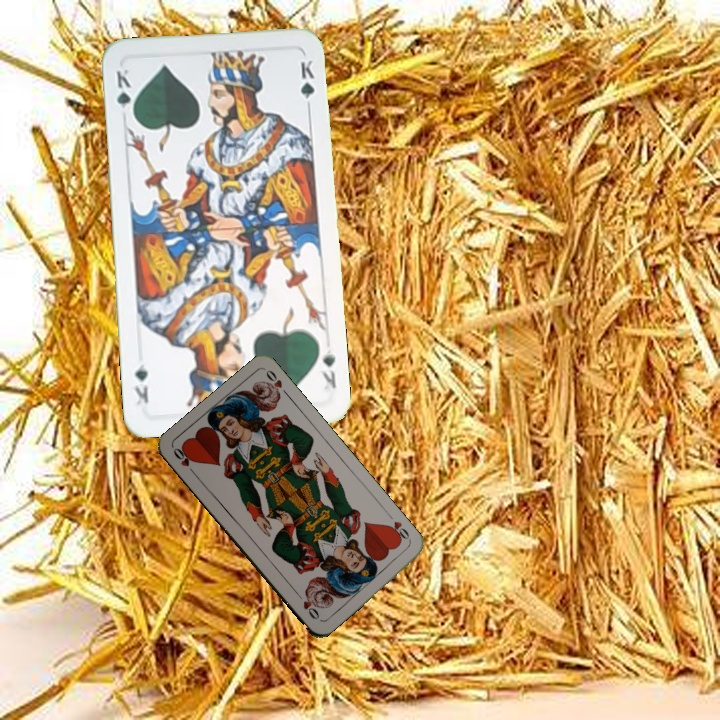GK: (112, 65, 137, 122), (316, 345, 339, 392)
HO: (382, 510, 414, 545), (169, 444, 199, 478)
